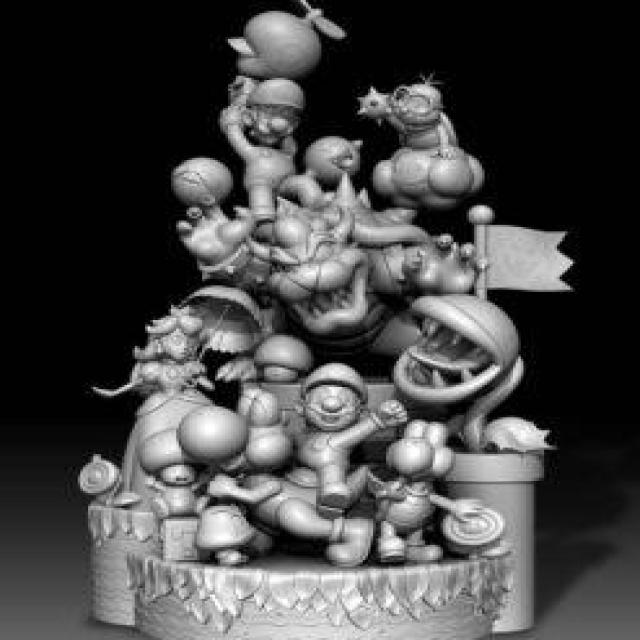Without deffect: (37, 1, 640, 640)
